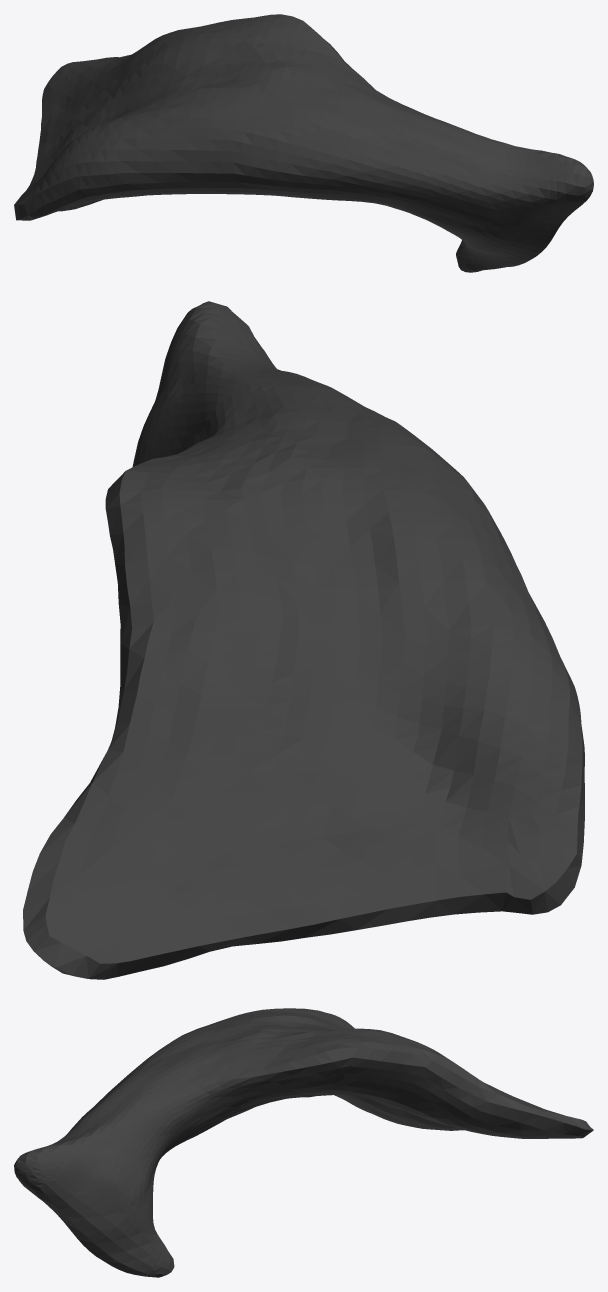
The model's file is Anconeus_1.glb.
The picture shows the model from 3 angles, top to bottom: view 1: azimuth 30°, elevation 25°; view 2: azimuth 150°, elevation 25°; view 3: azimuth 270°, elevation 25°; orthographic projection. The views are drawn at different scales.
Parts seen in each view (by area): view 1: Anconeus_1; view 2: Anconeus_1; view 3: Anconeus_1.
Part boxes in pixels (bbox=[...]): Anconeus_1: bbox=[14, 14, 593, 272]; Anconeus_1: bbox=[23, 301, 584, 979]; Anconeus_1: bbox=[14, 1008, 593, 1277].
Size of the model in its own units: 0.00911 by 0.00458 by 0.0127.
1 material, 1 textured.
